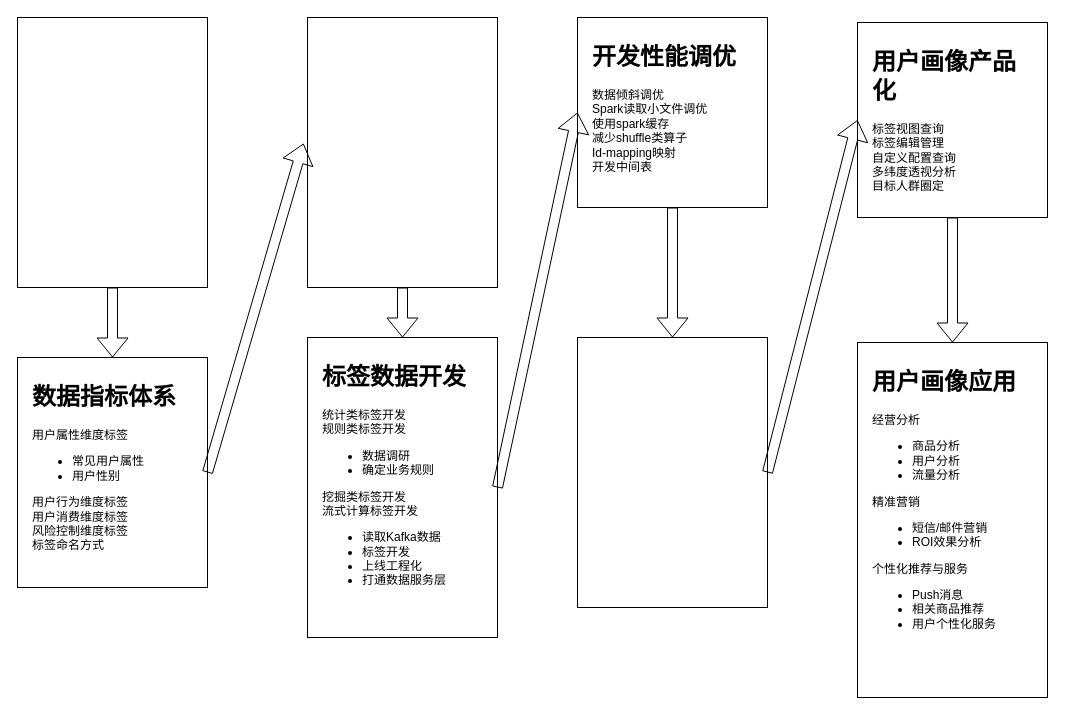
This 1065x715 diagram has some shape labels left out. The box of each missing label's shape, as (x1, y1, x2, y2) in pixels:
作业流程调度 Crontab命令调度 Airflow工作平台 Airflow服务构成 主要功能模块 工作流调度 常用命令 标签数据监控模块 ETL异常排查: (576, 336, 768, 608)
标签数据存储 Hive存储 分区插入数据 标签Id-mapping MySQL存储 元数据管理 标签量级监控 结果集存储 HBase存储 ES存储: (306, 16, 498, 288)
用户画像基础 用户画像是什么 画像简介 标签类型 数据架构 开发流程 常见表结构设计 日增量数据 日全量数据: (16, 16, 208, 288)
